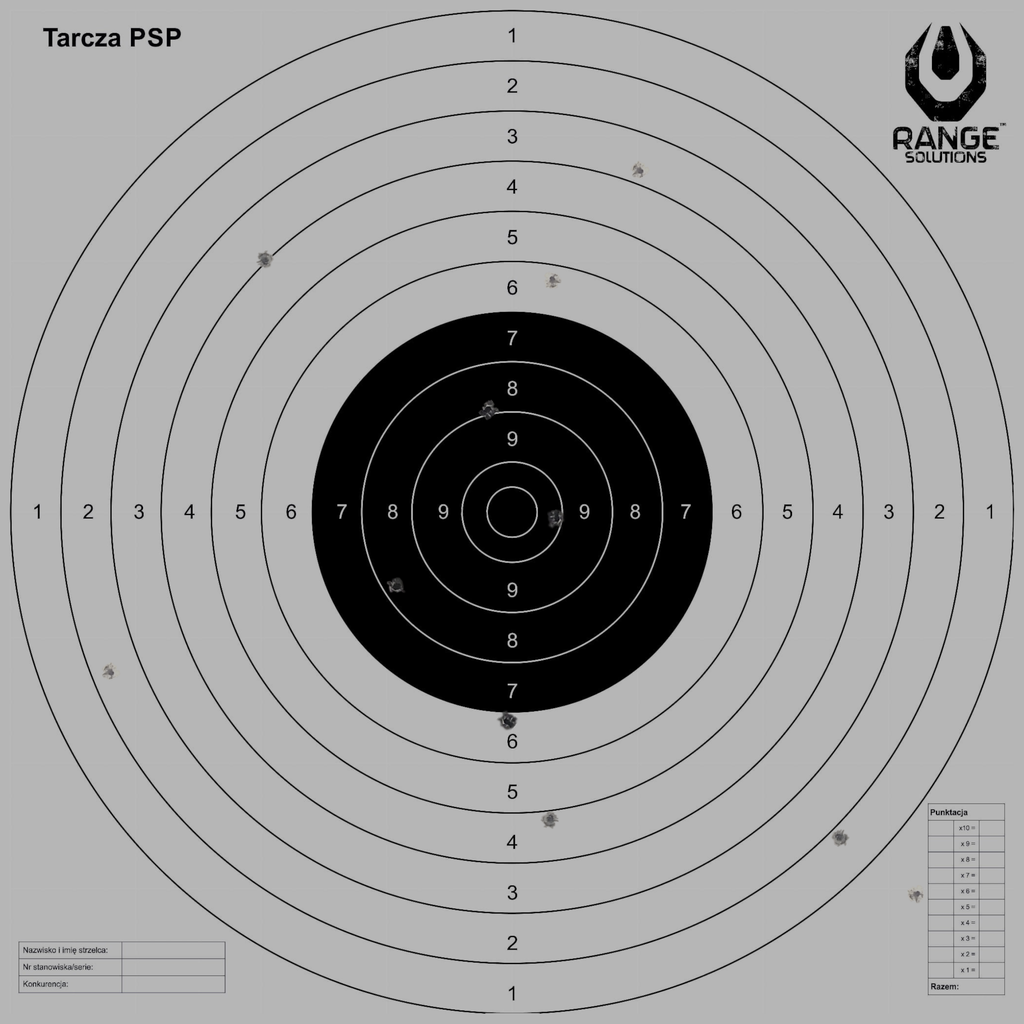0 punktow: (907, 885, 926, 904)
1 punkt: (830, 828, 849, 847)
10 punktow: (547, 510, 566, 528)
2 punkty: (101, 663, 120, 682)
3 punkty: (631, 162, 649, 180)
4 punkty: (256, 251, 274, 270)
5 punktow: (541, 810, 559, 828)
6 punktow: (543, 271, 562, 289)
7 punktow: (498, 712, 516, 730)
8 punktow: (387, 577, 405, 596)
9 punktow: (479, 401, 497, 419)
